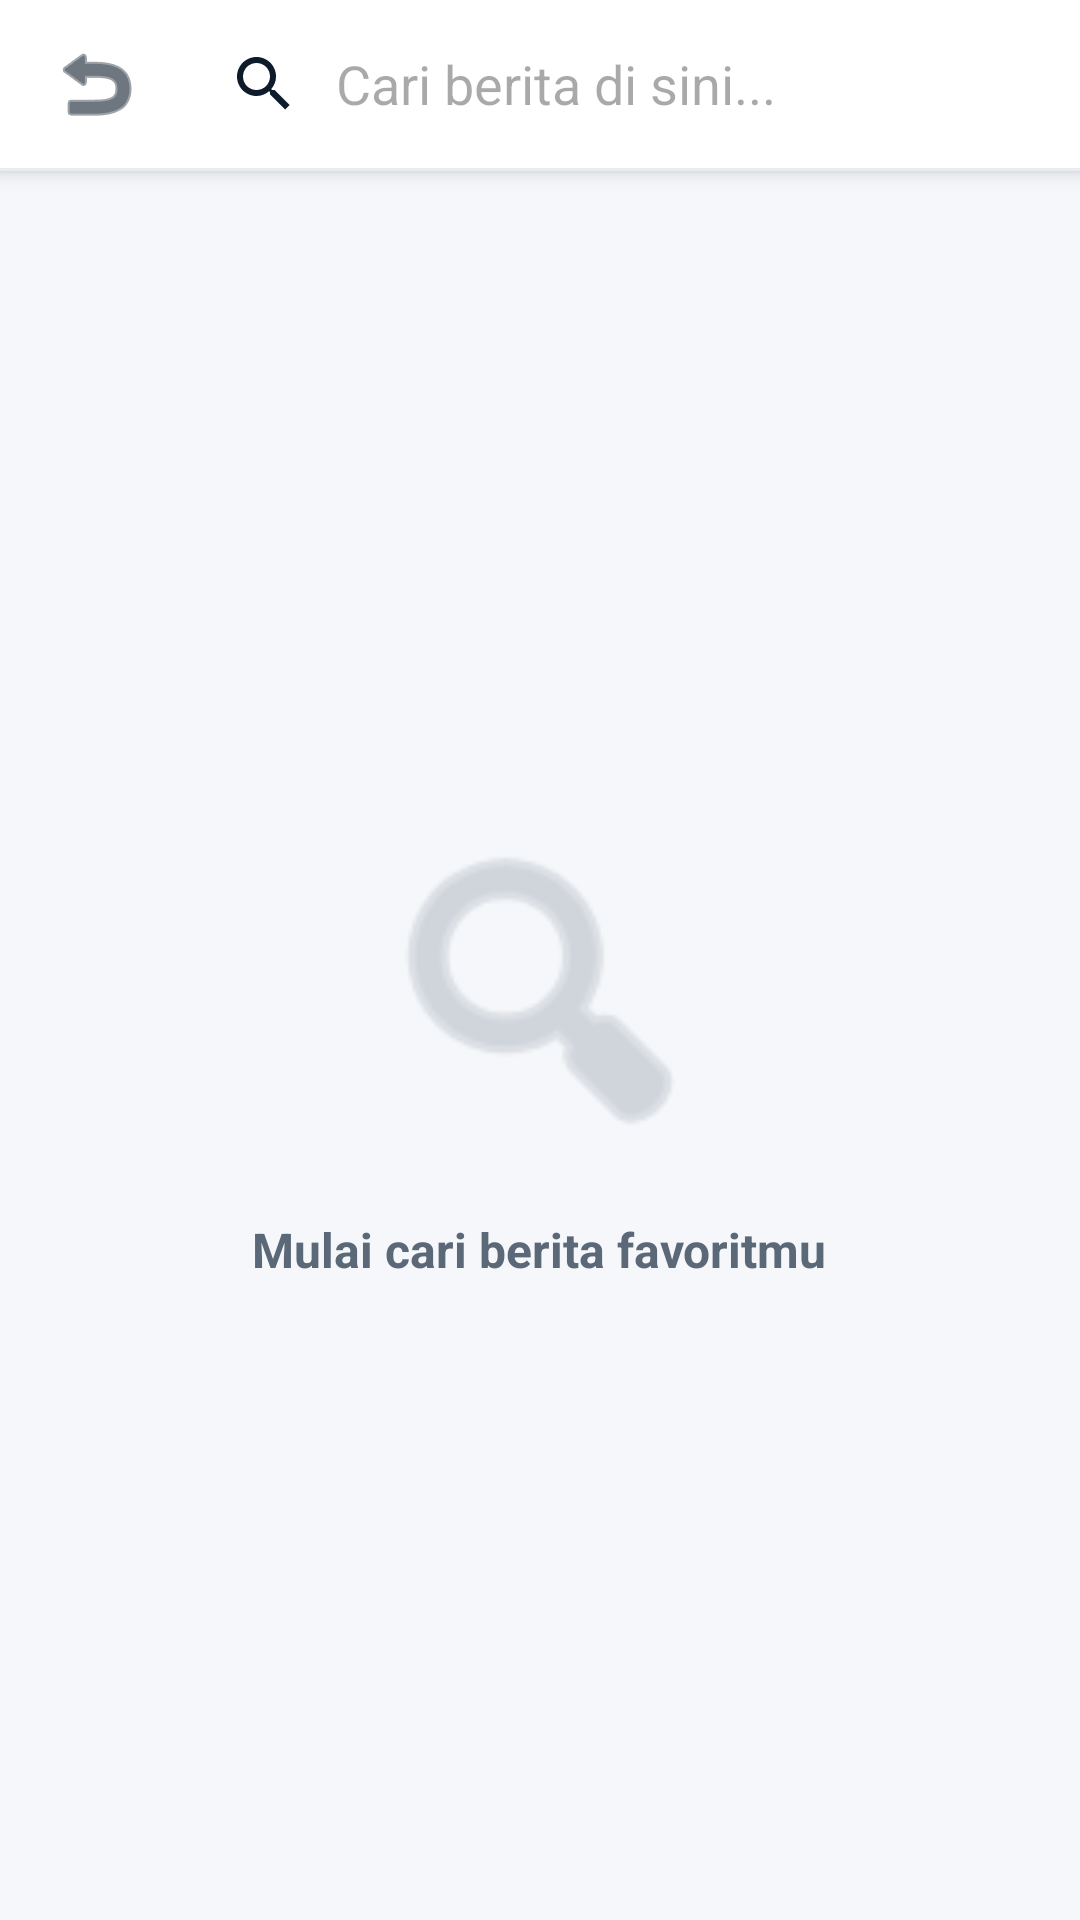

Named icons in this screenshot (1080×1920) and their bounding boxes, (x1, y1, x2, y2):
Back: (63, 53, 132, 116)
